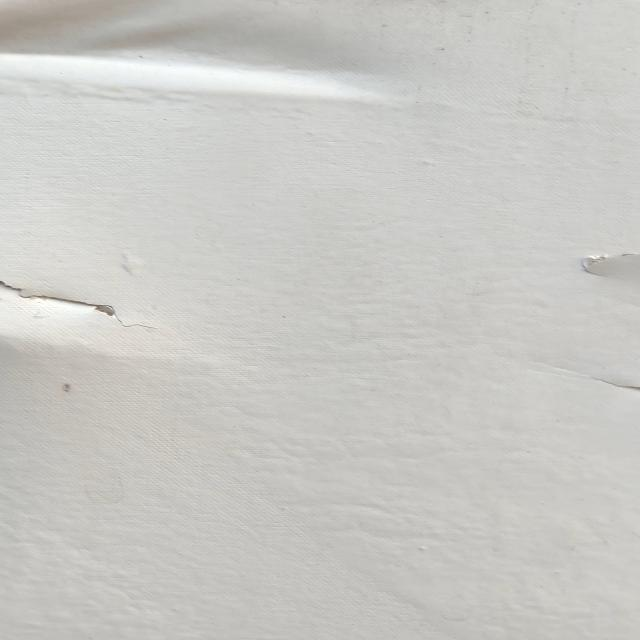Dents or Deformation: (1, 1, 449, 120)
Scratches: (1, 246, 157, 339), (564, 235, 640, 291), (550, 362, 640, 399)
